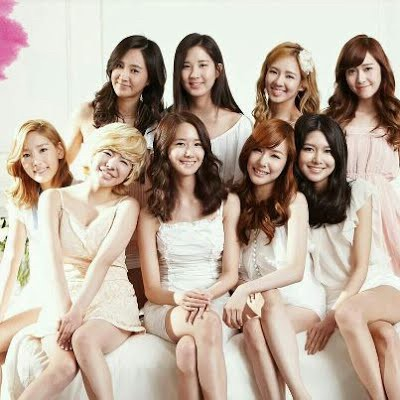people: (42, 122, 151, 396), (293, 115, 394, 396), (157, 112, 224, 400), (240, 119, 305, 400), (7, 120, 66, 383), (334, 36, 400, 212), (170, 34, 236, 168), (93, 36, 169, 134), (252, 41, 322, 137)
